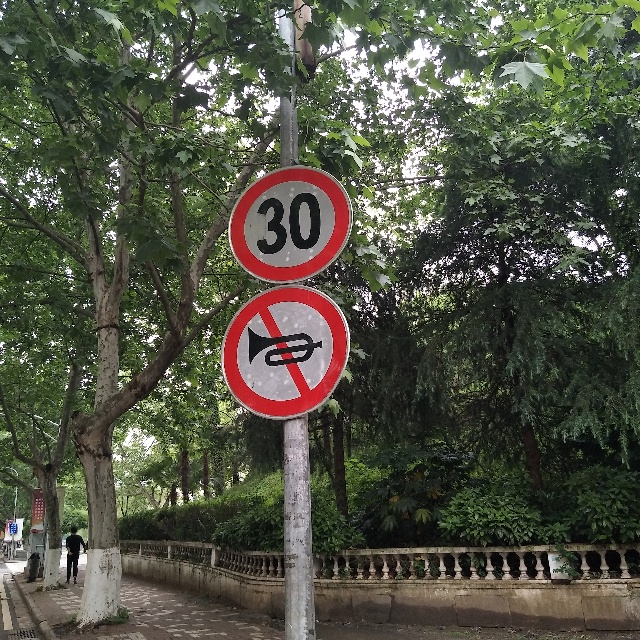nohonk: (222, 284, 351, 420)
